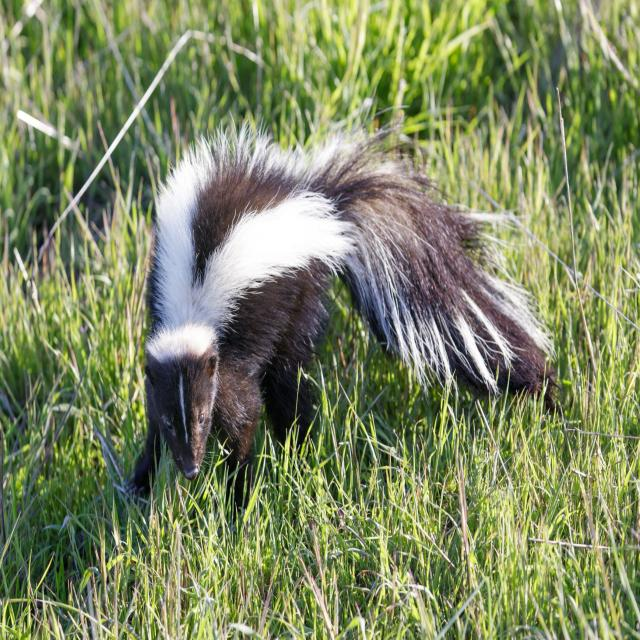Skunk: (112, 123, 541, 496)
